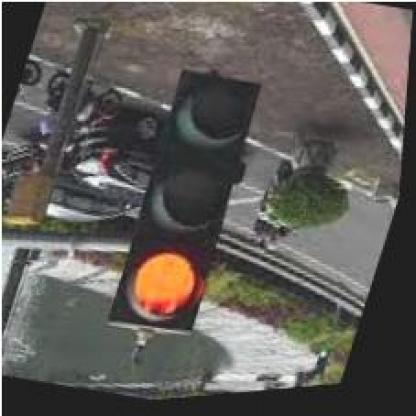red: (101, 65, 273, 349)
